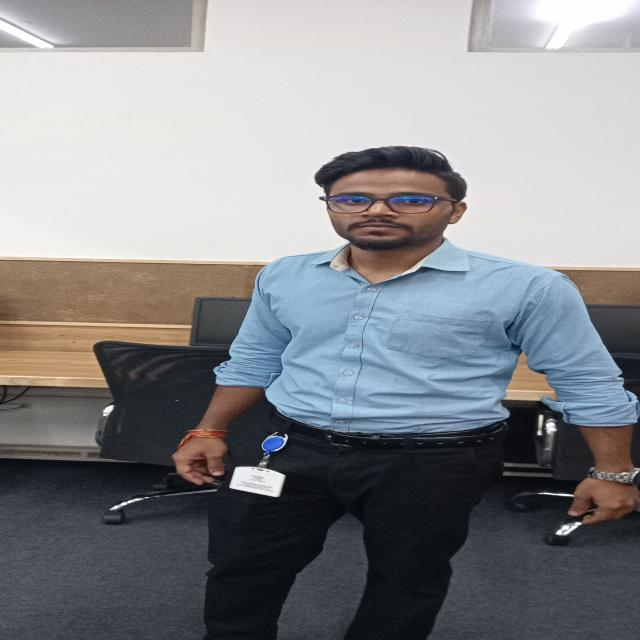unsafe: (168, 142, 640, 640)
